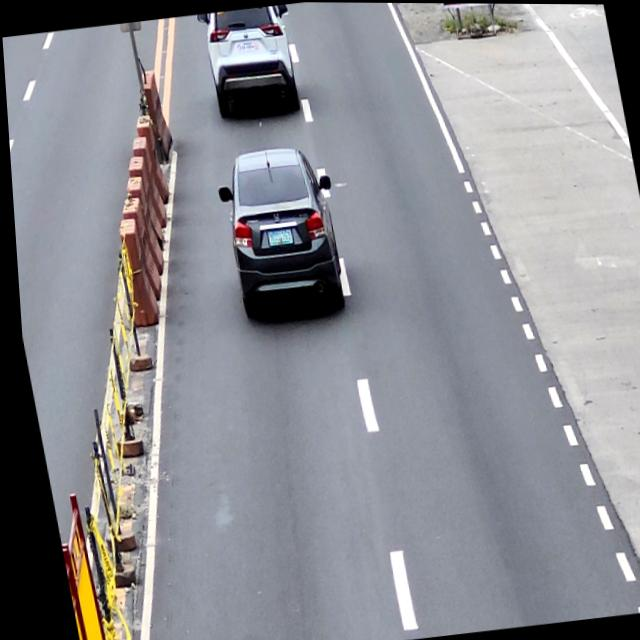Car: (209, 141, 351, 324), (196, 3, 306, 124)
License-Plate: (263, 228, 291, 246), (236, 40, 258, 52)
